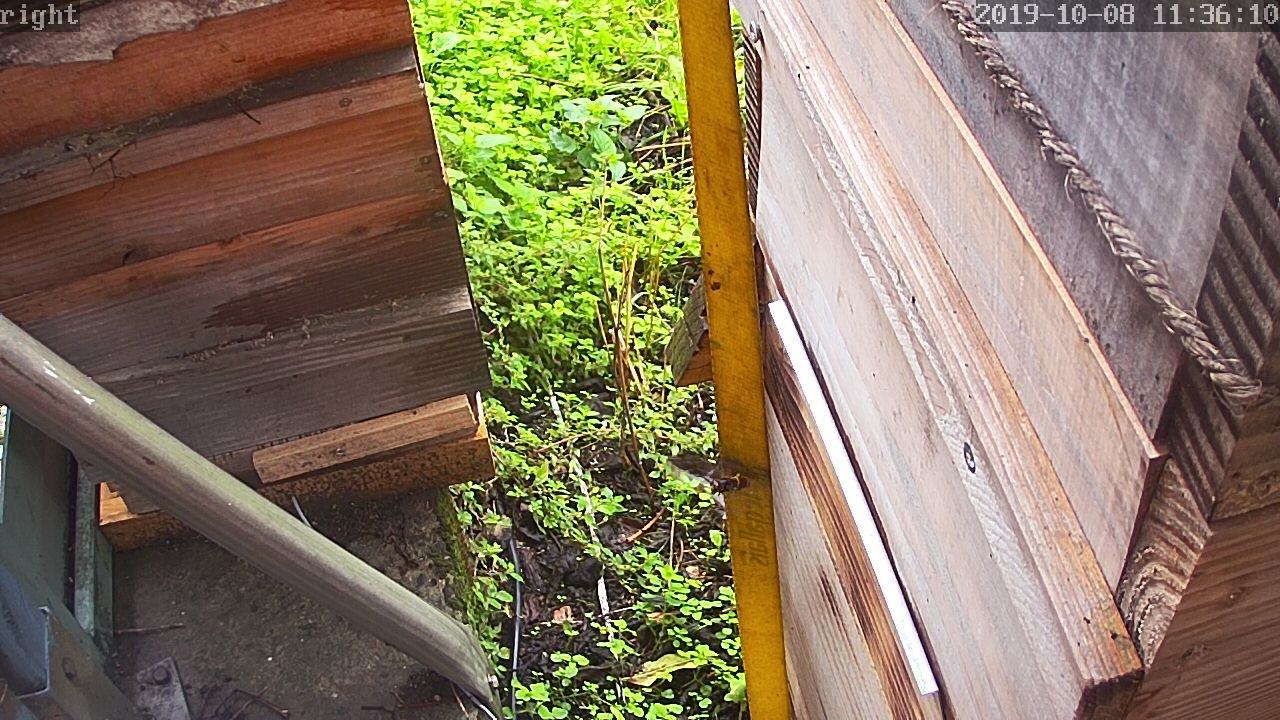hornet: (710, 456, 754, 505), (710, 531, 741, 597)
